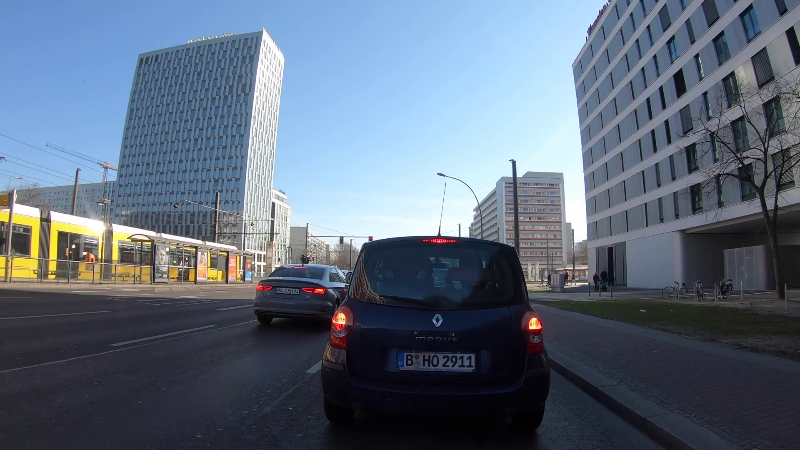Plate: (392, 349, 479, 373), (272, 285, 301, 295)
